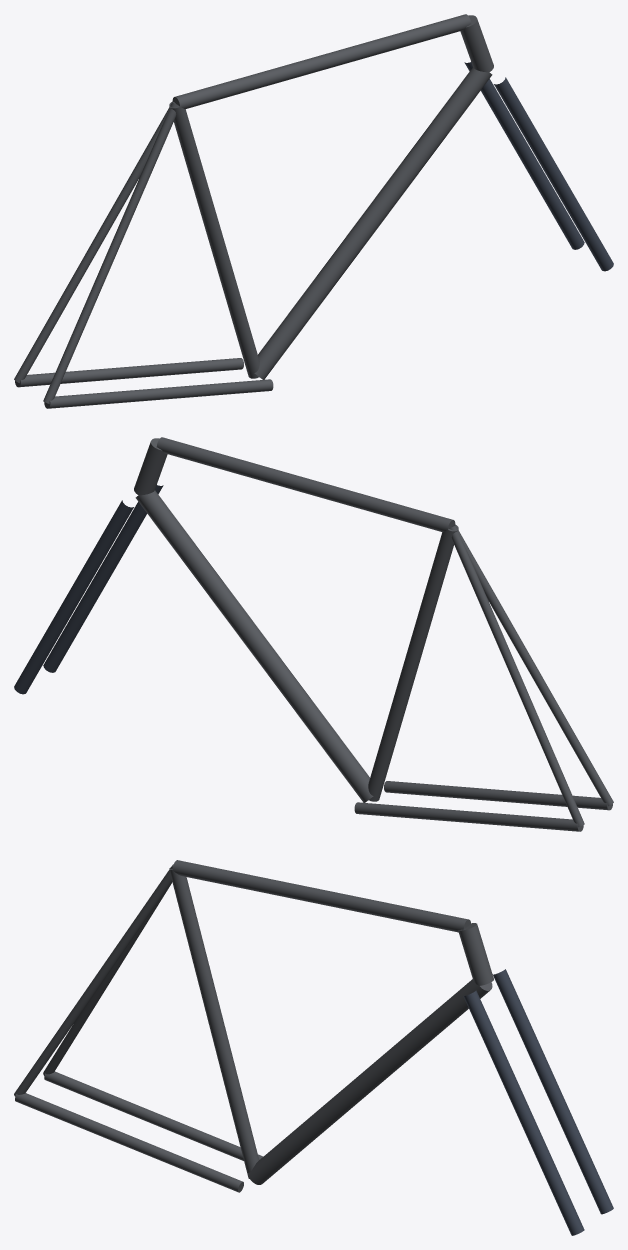
Rendered from wabi-prism-51.glb.
The picture shows the model from 3 angles, top to bottom: view 1: azimuth 30°, elevation 25°; view 2: azimuth 150°, elevation 25°; view 3: azimuth 330°, elevation 25°; orthographic projection.
Parts seen in each view (by area): view 1: paint_down, paint_top, paint_seat, fork_0.045, paint_seatstay_0.045, fork_-0.045, paint_chainstay_0.045, paint_seatstay_-0.045, paint_chainstay_-0.045, paint_head; view 2: paint_down, paint_top, paint_seat, fork_-0.045, paint_seatstay_-0.045, fork_0.045, paint_chainstay_-0.045, paint_seatstay_0.045, paint_chainstay_0.045, paint_head; view 3: paint_down, paint_seat, paint_top, fork_0.045, fork_-0.045, paint_chainstay_0.045, paint_chainstay_-0.045, paint_seatstay_0.045, paint_seatstay_-0.045, paint_head.
Part boxes in pixels (box(x1,y1,x2,y2)): paint_down: box(254, 67, 492, 379); paint_top: box(172, 14, 471, 109); paint_seat: box(169, 101, 259, 378); fork_0.045: box(494, 77, 613, 271); paint_seatstay_0.045: box(43, 103, 178, 403); fork_-0.045: box(464, 62, 584, 249); paint_chainstay_0.045: box(44, 379, 273, 408); paint_seatstay_-0.045: box(14, 102, 175, 383); paint_chainstay_-0.045: box(15, 358, 243, 387); paint_head: box(460, 15, 493, 72); paint_down: box(135, 490, 373, 802); paint_top: box(156, 437, 455, 532); paint_seat: box(368, 524, 458, 801); fork_-0.045: box(14, 500, 133, 694); paint_seatstay_-0.045: box(449, 526, 584, 826); fork_0.045: box(43, 485, 163, 672); paint_chainstay_-0.045: box(354, 802, 583, 831); paint_seatstay_0.045: box(452, 525, 613, 806); paint_chainstay_0.045: box(384, 781, 612, 810); paint_head: box(134, 438, 167, 495); paint_down: box(247, 979, 492, 1184); paint_seat: box(169, 867, 258, 1178); paint_top: box(172, 860, 471, 932); fork_0.045: box(463, 990, 584, 1235); fork_-0.045: box(492, 969, 613, 1214); paint_chainstay_0.045: box(15, 1093, 243, 1192); paint_chainstay_-0.045: box(44, 1071, 263, 1160); paint_seatstay_0.045: box(14, 865, 173, 1096); paint_seatstay_-0.045: box(43, 864, 173, 1075); paint_head: box(458, 923, 493, 985).
Bounding box in the file's own units: 1.01 × 0.5322 × 0.112.
